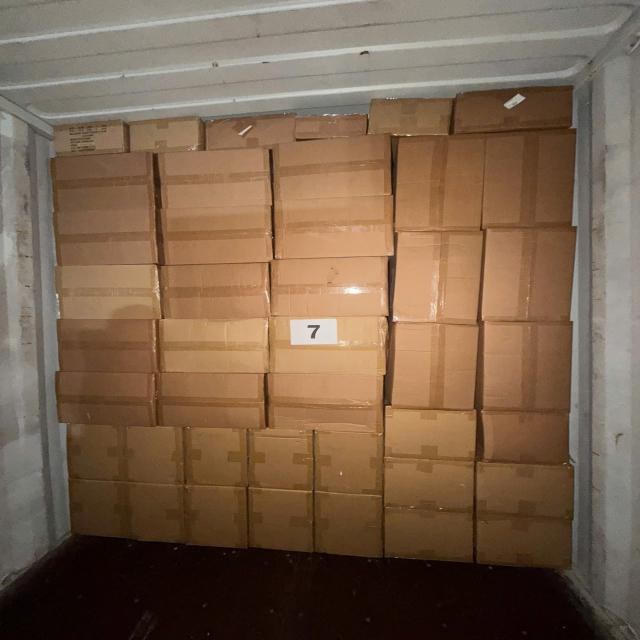Carton: (478, 466, 580, 576), (386, 461, 476, 570), (488, 126, 582, 227), (485, 228, 582, 323), (391, 228, 482, 325), (484, 326, 579, 417), (393, 137, 482, 234), (67, 478, 189, 546), (390, 328, 480, 414), (270, 136, 390, 200), (278, 197, 397, 261), (156, 205, 276, 268), (265, 371, 386, 433), (65, 422, 187, 483), (269, 256, 390, 317), (156, 146, 271, 210), (267, 316, 388, 376), (452, 82, 580, 136), (159, 262, 271, 321), (50, 207, 162, 266), (159, 318, 272, 376), (47, 155, 160, 213), (157, 373, 266, 432), (58, 263, 164, 321), (475, 461, 576, 520), (58, 320, 162, 376), (58, 373, 160, 429), (478, 517, 578, 572), (386, 406, 482, 461), (482, 410, 574, 466), (314, 490, 386, 561), (386, 458, 478, 512), (316, 429, 386, 494), (247, 490, 314, 556), (184, 482, 248, 550), (250, 426, 316, 489), (183, 425, 248, 486), (366, 97, 454, 138), (203, 111, 296, 148), (50, 117, 130, 159), (127, 113, 202, 154), (294, 111, 370, 141)
